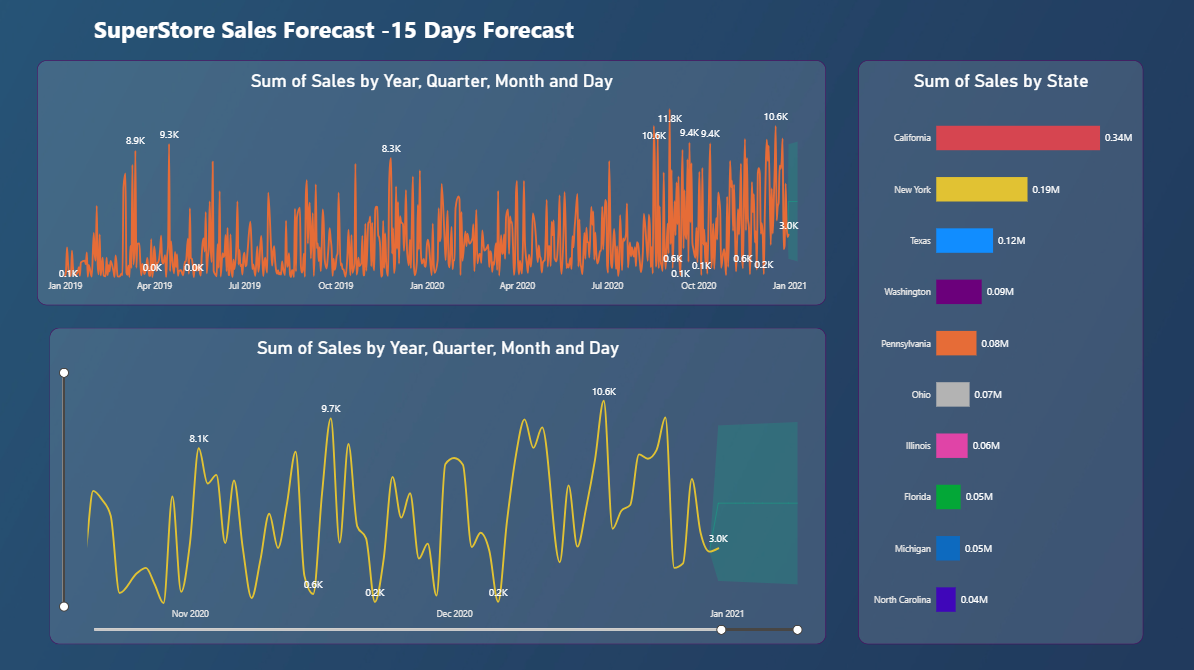

The page's visual inventory and layout, read from the dashboard file:
{"tool":"powerbi","page":{"name":"Page 2","canvas":[1920,1080],"ordinal":1},"visuals":[{"type":"lineChart","fields":{"Category":["SuperStore_Sales_Dataset.Order Date.Variation.Date Hierarchy.Year","SuperStore_Sales_Dataset.Order Date.Variation.Date Hierarchy.Quarter","SuperStore_Sales_Dataset.Order Date.Variation.Date Hierarchy.Month","SuperStore_Sales_Dataset.Order Date.Variation.Date Hierarchy.Day"],"Y":["Sum(SuperStore_Sales_Dataset.Sales)"]},"box":[64,98,1262,392],"z":0},{"type":"lineChart","fields":{"Category":["SuperStore_Sales_Dataset.Order Date.Variation.Date Hierarchy.Year","SuperStore_Sales_Dataset.Order Date.Variation.Date Hierarchy.Quarter","SuperStore_Sales_Dataset.Order Date.Variation.Date Hierarchy.Month","SuperStore_Sales_Dataset.Order Date.Variation.Date Hierarchy.Day"],"Y":["Sum(SuperStore_Sales_Dataset.Sales)"]},"box":[84,526,1242,506],"z":1},{"type":"clusteredBarChart","fields":{"Category":["SuperStore_Sales_Dataset.State"],"Y":["Sum(SuperStore_Sales_Dataset.Sales)"]},"box":[1378,98,456,934],"z":2},{"type":"textbox","box":[64,22,950,90],"z":3}]}

Visuals, with their boxes in screenshot pixels (x1, y1, x2, y2), scaled from the page's 1920x1080 canvas onto the 1194x670 screenshot:
lineChart - SuperStore_Sales_Dataset.Order Date.Variation.Date Hierarchy.Year x SuperStore_Sales_Dataset.Order Date.Variation.Date Hierarchy.Quarter: [x1=40, y1=61, x2=825, y2=304]
lineChart - SuperStore_Sales_Dataset.Order Date.Variation.Date Hierarchy.Year x SuperStore_Sales_Dataset.Order Date.Variation.Date Hierarchy.Quarter: [x1=52, y1=326, x2=825, y2=640]
clusteredBarChart - SuperStore_Sales_Dataset.State x Sum(SuperStore_Sales_Dataset.Sales): [x1=857, y1=61, x2=1141, y2=640]
textbox: [x1=40, y1=14, x2=631, y2=69]
